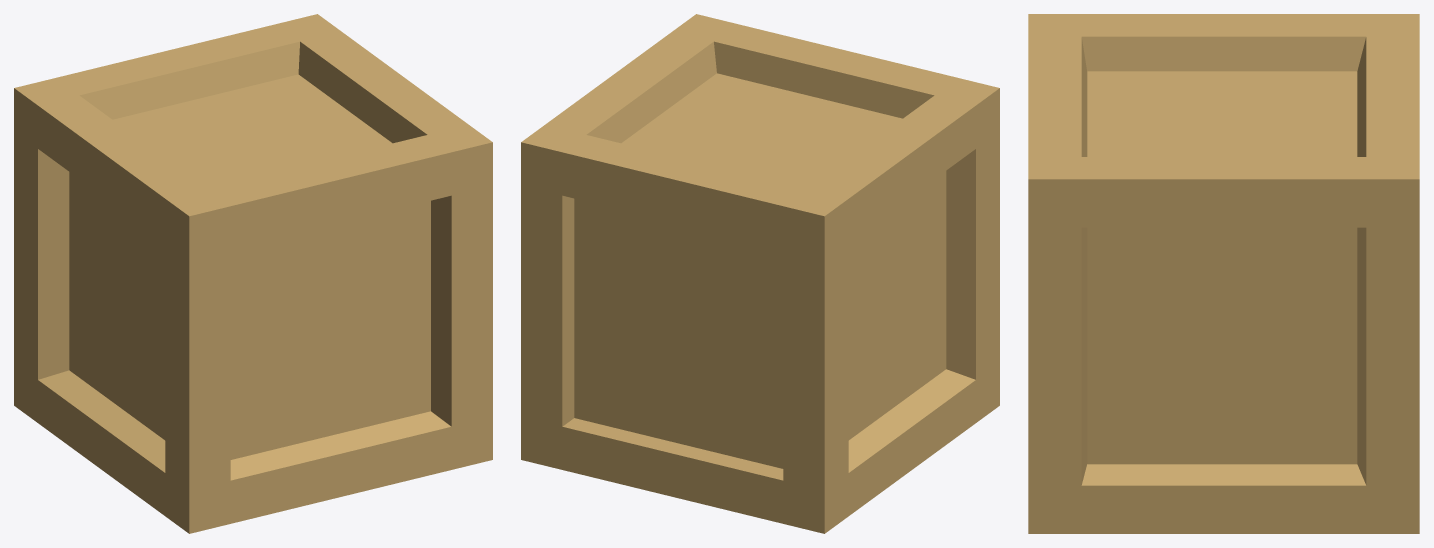
Rendered from Kiste.fbx.
The picture shows the model from 3 angles, left to right: view 1: azimuth 30°, elevation 25°; view 2: azimuth 150°, elevation 25°; view 3: azimuth 270°, elevation 25°; orthographic projection. The views are drawn at different scales.
Parts seen in each view (by area): view 1: Cube.001; view 2: Cube.001; view 3: Cube.001.
Boxes of the visible parts, bbox=[...] form: Cube.001: bbox=[14, 14, 492, 533]; Cube.001: bbox=[521, 14, 999, 533]; Cube.001: bbox=[1028, 14, 1419, 533].
Bounding box in the file's own units: 83.51 × 83.51 × 83.51.
